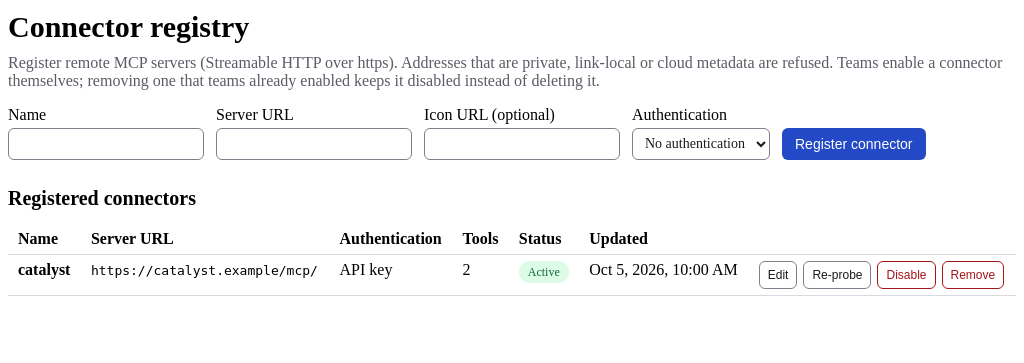
Scenario: Re-probe (KOBE-430) › says when nothing changed
The width and height of the screenshot is (1024, 363).
Click the button named "Re-probe catalyst": (838, 274) top-left (804, 260), bottom-right (872, 288)
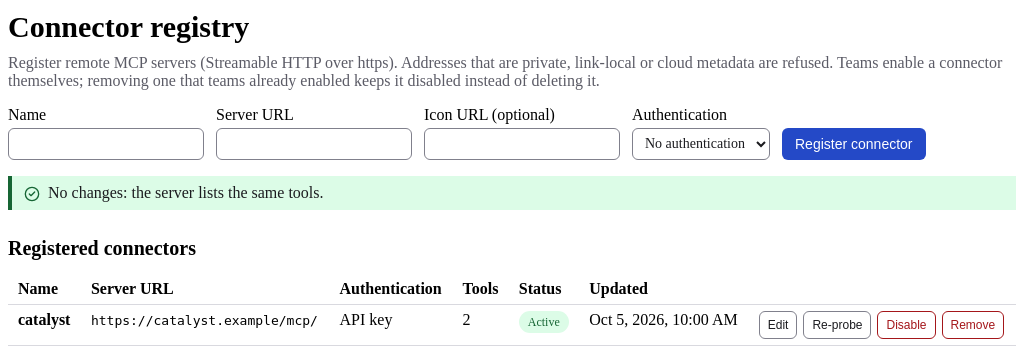
Expected: the text "No changes: the server lists the same tools." is shown, top-left (48, 184), bottom-right (324, 200)
